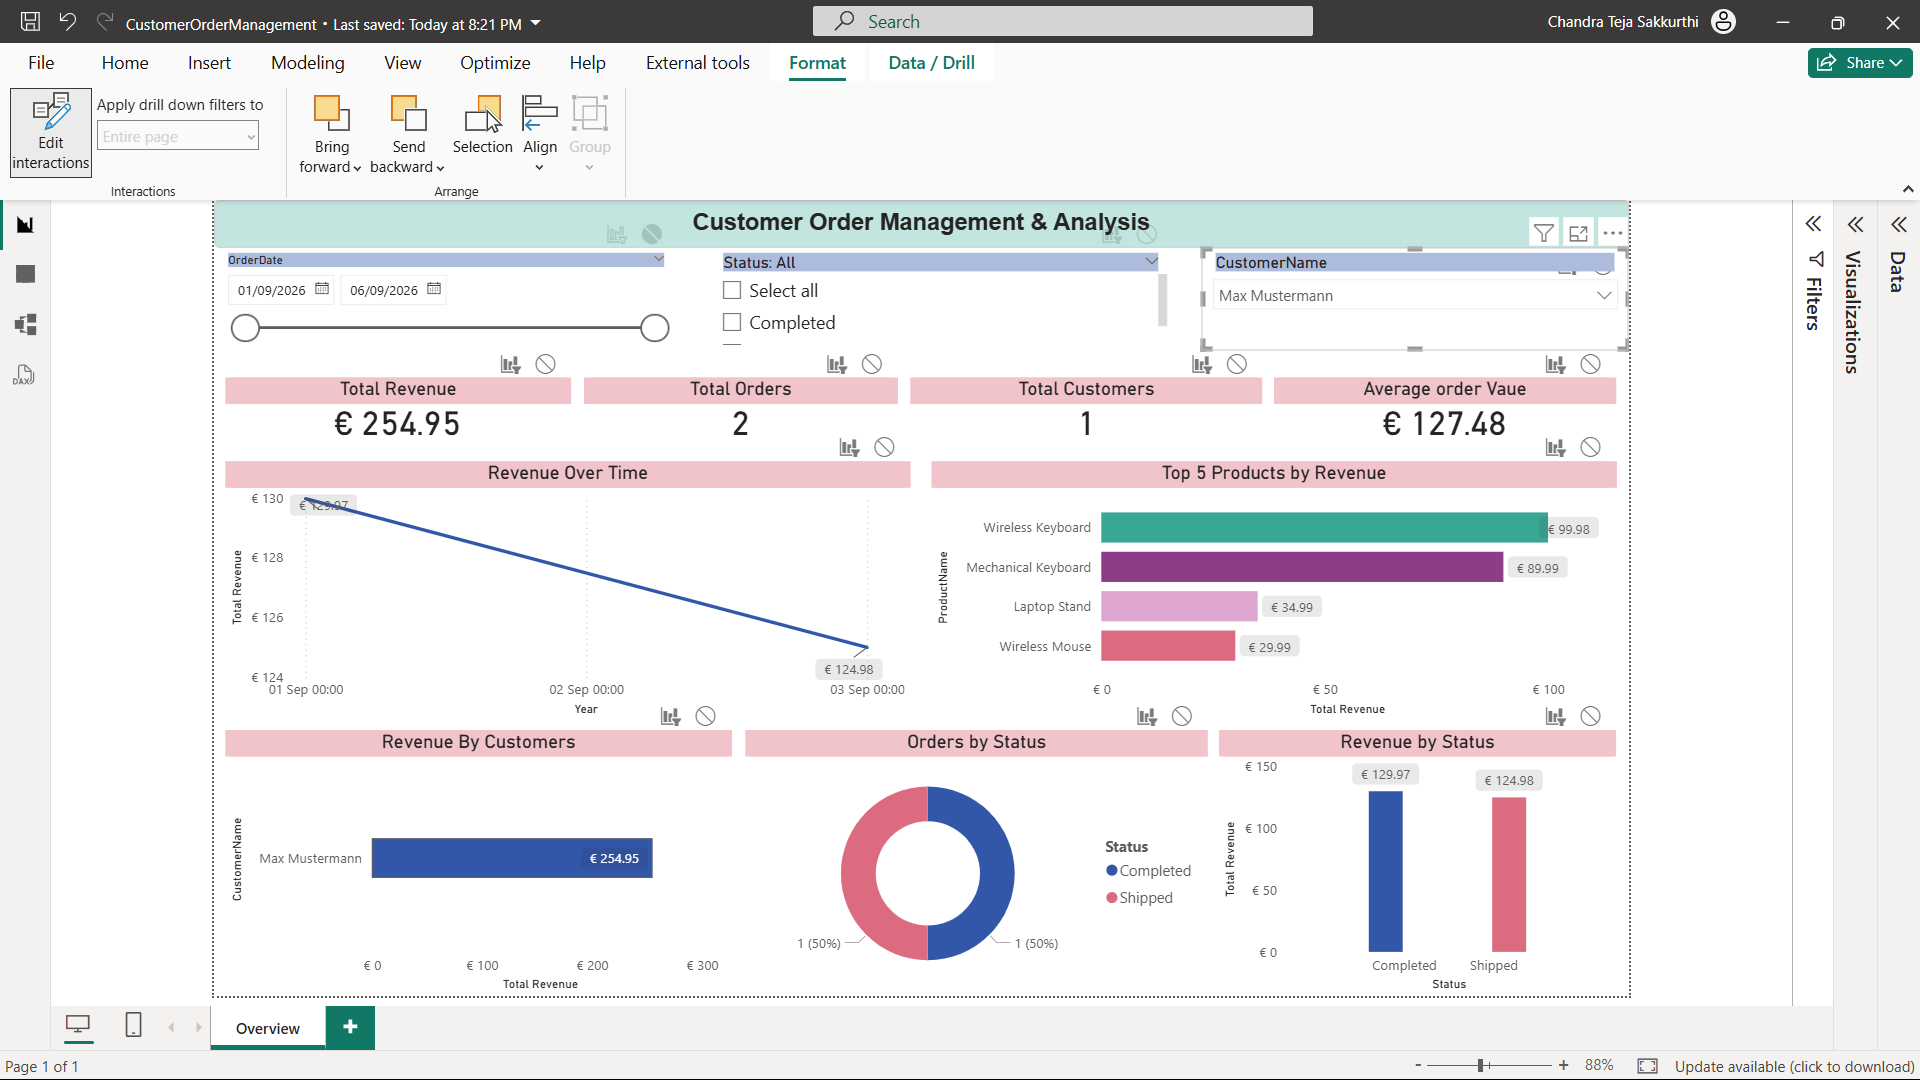

What the dashboard file says about the page in this screenshot:
{"tool":"powerbi","page":{"name":"Overview","canvas":[1280,720],"ordinal":0},"visuals":[{"type":"card","title":"Total Revenue","fields":{"Values":["Measures (2).Total Revenue"]},"box":[10.5,160.5,312.8,59.3],"z":0},{"type":"card","title":"Total Orders","fields":{"Values":["Measures (2).Total Orders"]},"box":[334.9,160.5,283.7,59.3],"z":1000},{"type":"card","title":"Total Customers","fields":{"Values":["Measures (2).Total Customers"]},"box":[630.2,160.5,318.6,59.3],"z":2000},{"type":"card","title":"Average order Vaue","fields":{"Values":["Measures (2).Average Order Value"]},"box":[959.3,160.5,309.3,59.3],"z":3000},{"type":"lineChart","title":"Revenue Over Time","fields":{"Y":["Measures (2).Total Revenue"],"Category":["Orders.OrderDate.Variation.Date Hierarchy.Year","Orders.OrderDate.Variation.Date Hierarchy.Quarter","Orders.OrderDate.Variation.Date Hierarchy.Month","Orders.OrderDate.Variation.Date Hierarchy.Day"]},"box":[10.5,236,619.8,234.9],"z":4000},{"type":"clusteredBarChart","title":"Revenue By Customers","fields":{"Category":["Customers.CustomerName"],"Y":["Measures (2).Total Revenue"],"Series":["Customers.CustomerID"]},"box":[10.5,479.1,458.1,240.7],"z":5000},{"type":"barChart","title":"Top 5 Products by Revenue","fields":{"Category":["Products.ProductName"],"Y":["Measures (2).Total Revenue"],"Series":["Products.ProductName"]},"box":[648.8,236,619.8,234.9],"z":6000},{"type":"slicer","title":"Date","fields":{"Values":["Orders.OrderDate"]},"box":[0,42.5,419.9,93.3],"z":7000},{"type":"slicer","fields":{"Values":["Orders.Status"]},"box":[447.7,43,419.8,93],"z":8000},{"type":"slicer","fields":{"Values":["Customers.CustomerName"]},"box":[893.3,42.5,387,93.3],"z":9000},{"type":"textbox","box":[0,0,1279.9,43],"z":10000},{"type":"clusteredColumnChart","title":"Revenue by Status","fields":{"Category":["Orders.Status"],"Y":["Measures (2).Total Revenue"],"Series":["Orders.Status"]},"box":[909.3,479.1,359.3,240.7],"z":11000},{"type":"donutChart","title":"Orders by Status","fields":{"Category":["Orders.Status"],"Y":["Measures (2).Total Orders by Product"]},"box":[480.2,479.1,418.6,240.7],"z":12000}]}

Visuals, with their boxes on the page's 1280x720 design canvas (x1, y1, x2, y2). These are canvas units, not pixel positions in the 1920x1080 screenshot, which may show the page scaled, cropped or inside an application window:
"Total Revenue" card: <region>10, 160, 323, 220</region>
"Total Orders" card: <region>335, 160, 619, 220</region>
"Total Customers" card: <region>630, 160, 949, 220</region>
"Average order Vaue" card: <region>959, 160, 1269, 220</region>
"Revenue Over Time" lineChart: <region>10, 236, 630, 471</region>
"Revenue By Customers" clusteredBarChart: <region>10, 479, 469, 720</region>
"Top 5 Products by Revenue" barChart: <region>649, 236, 1269, 471</region>
"Date" slicer: <region>0, 42, 420, 136</region>
slicer - Orders.Status: <region>448, 43, 868, 136</region>
slicer - Customers.CustomerName: <region>893, 42, 1280, 136</region>
textbox: <region>0, 0, 1280, 43</region>
"Revenue by Status" clusteredColumnChart: <region>909, 479, 1269, 720</region>
"Orders by Status" donutChart: <region>480, 479, 899, 720</region>
